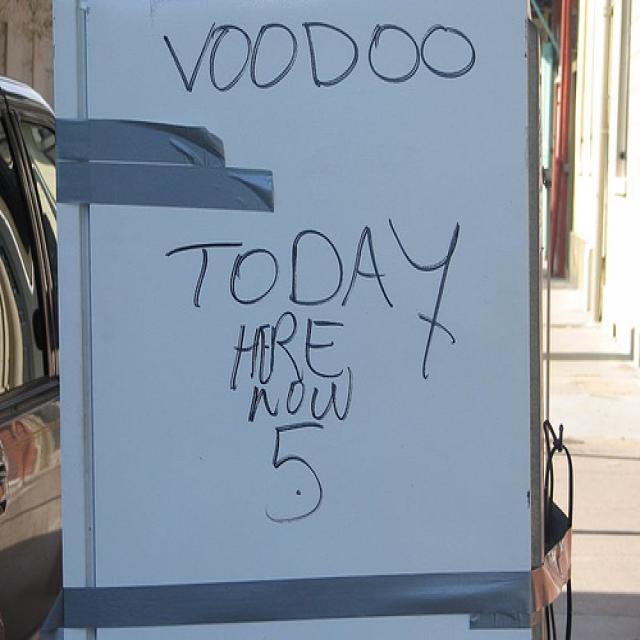Vehicle: (0, 76, 64, 640)
